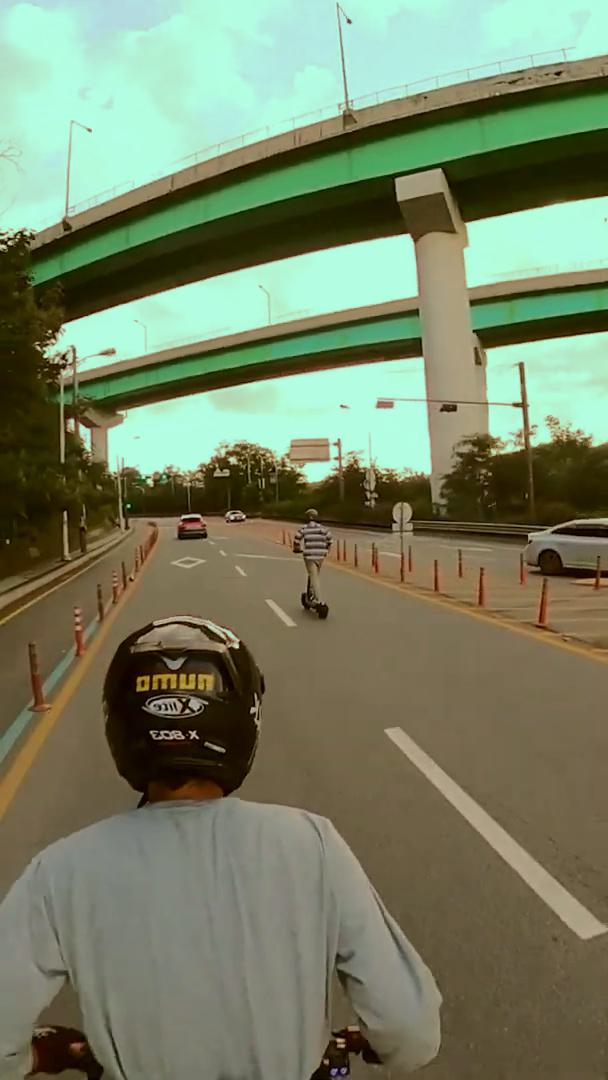helmet: (291, 505, 334, 623)
